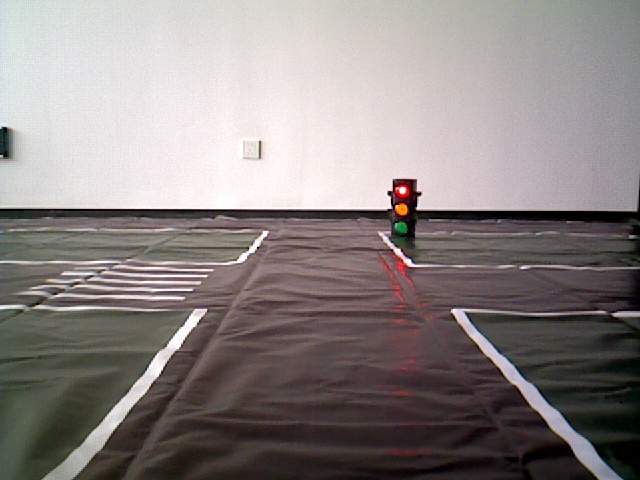red: (391, 183, 411, 240)
